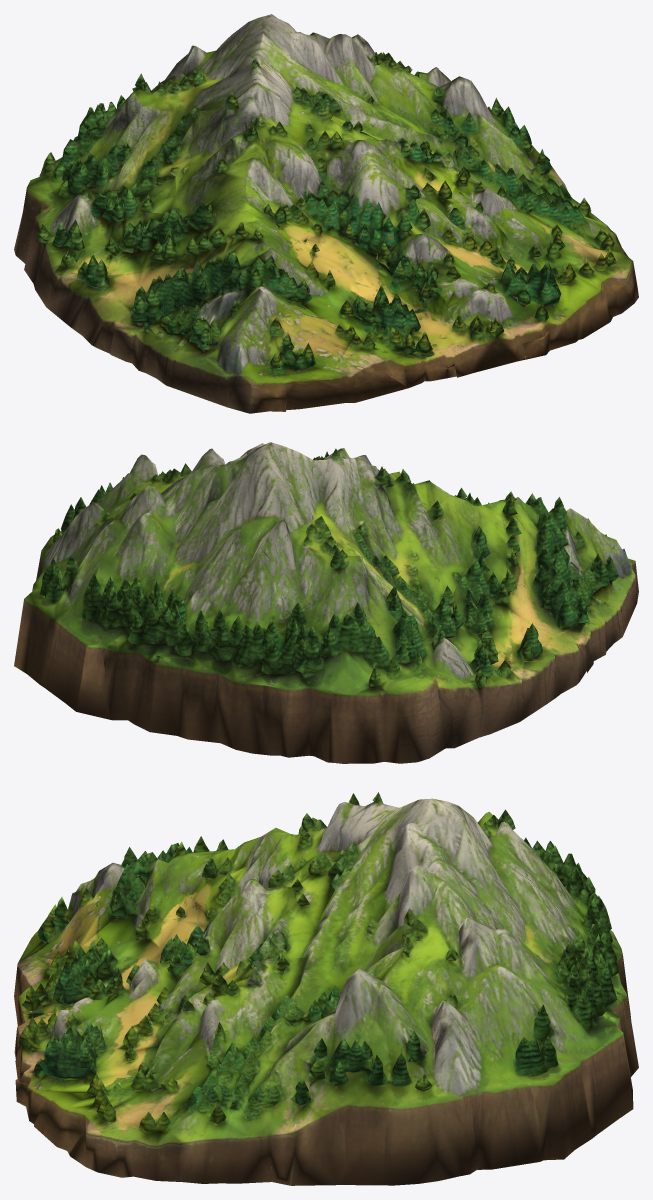
Rendered from city_balikesir_kaz_daglari.glb.
The picture shows the model from 3 angles, top to bottom: view 1: azimuth 30°, elevation 25°; view 2: azimuth 150°, elevation 25°; view 3: azimuth 270°, elevation 25°; orthographic projection. The views are drawn at different scales.
Visible parts, largest first — view 1: Mesh1.0; view 2: Mesh1.0; view 3: Mesh1.0.
Boxes of the visible parts, x1,y1,x2,y2 form: Mesh1.0: (14,14,638,413); Mesh1.0: (14,442,638,763); Mesh1.0: (14,792,638,1185).
Size of the model in its own units: 71.39 by 32 by 71.11.
1 material, 1 textured.
